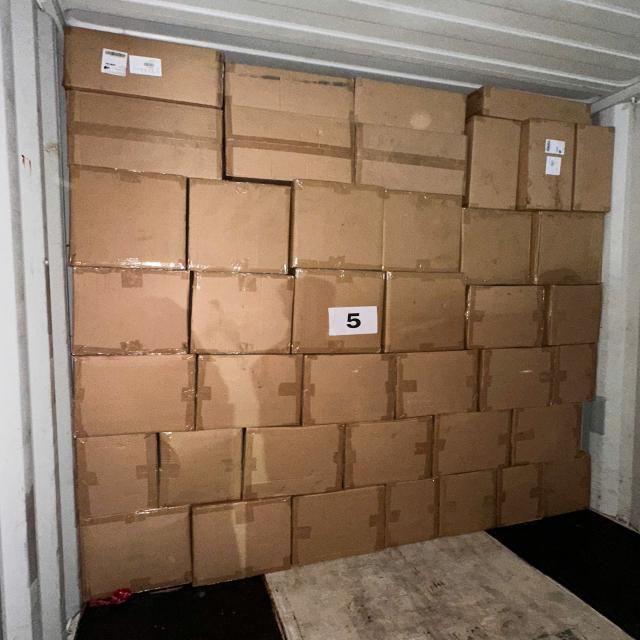Carton: (58, 11, 224, 110), (61, 86, 224, 182), (221, 99, 361, 191), (70, 171, 188, 275), (72, 266, 192, 354), (74, 356, 197, 440), (79, 512, 192, 602), (192, 183, 295, 279), (353, 120, 472, 198), (197, 499, 297, 591), (190, 275, 293, 358), (193, 355, 302, 432), (292, 270, 387, 358), (290, 186, 381, 276), (242, 420, 344, 498), (226, 58, 350, 122), (290, 490, 384, 569), (78, 429, 162, 517), (350, 75, 471, 135), (304, 354, 399, 427), (156, 425, 240, 506), (384, 270, 466, 351), (385, 191, 464, 274), (341, 418, 434, 487), (477, 81, 601, 130), (396, 346, 481, 416), (462, 208, 534, 286), (469, 113, 524, 214), (534, 212, 608, 286), (466, 282, 546, 349), (435, 411, 516, 476), (520, 118, 576, 212), (479, 346, 554, 409), (438, 468, 498, 538), (514, 406, 585, 464), (573, 121, 617, 213), (388, 478, 442, 548), (546, 286, 602, 348), (497, 461, 546, 528), (542, 454, 592, 519), (554, 344, 598, 404)
